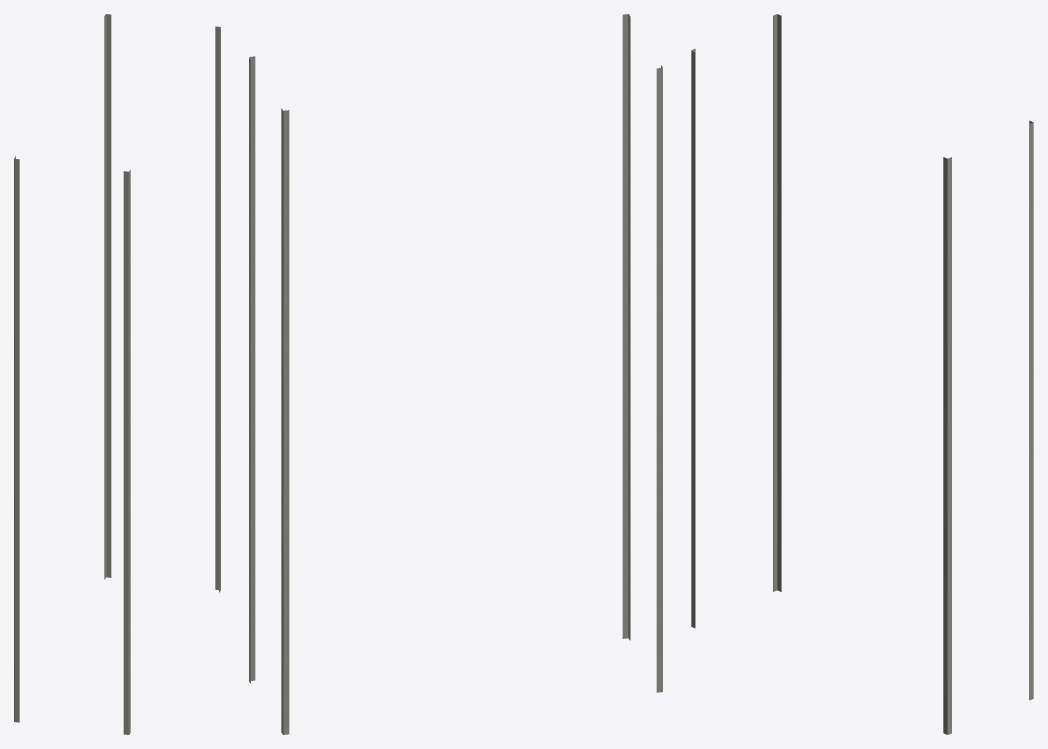
File: shelf_0301_t50_h2100_w1200.glb
3 renders of one model, left to right at view 1: azimuth 30°, elevation 25°; view 2: azimuth 150°, elevation 25°; view 3: azimuth 270°, elevation 25°, orthographic. The views are drawn at different scales.
Visible parts, largest first — view 1: shelf_0301_t50_h2100_w1200; view 2: shelf_0301_t50_h2100_w1200; view 3: shelf_0301_t50_h2100_w1200.
Boxes of the visible parts, x1,y1,x2,y2 form: shelf_0301_t50_h2100_w1200: [14, 14, 220, 734]; shelf_0301_t50_h2100_w1200: [249, 14, 662, 734]; shelf_0301_t50_h2100_w1200: [691, 14, 1033, 734].
Size of the model in its own units: 1.13 by 2.1 by 1.13.
1 material, 1 textured.
